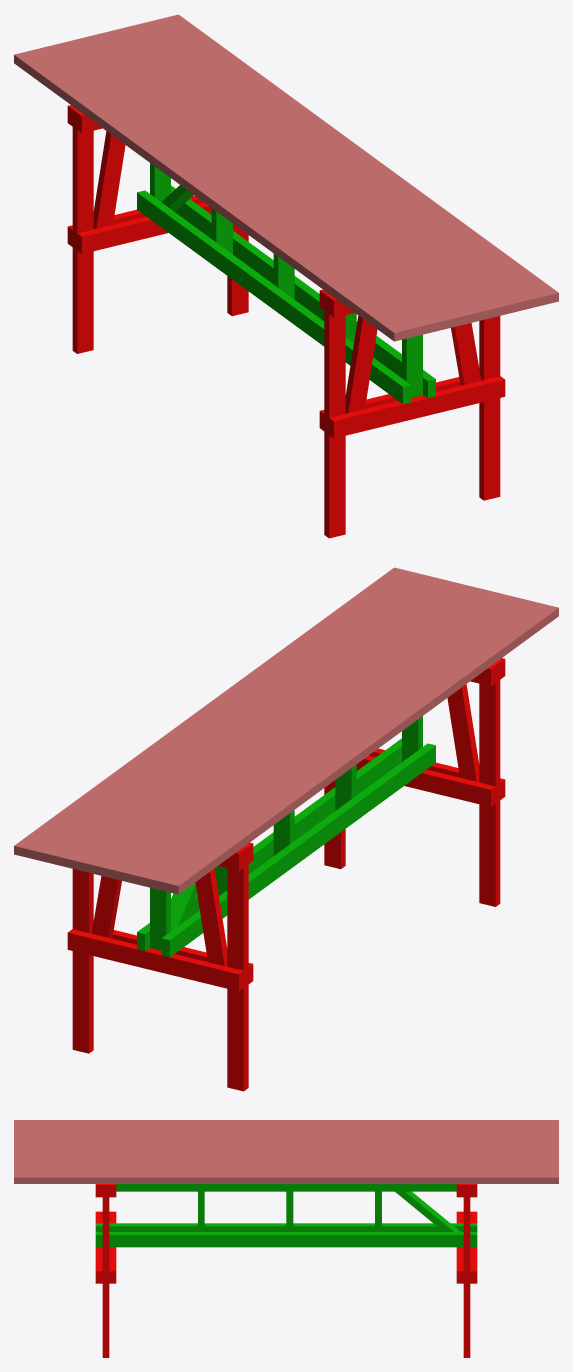
Rendered from result.glb.
3 views of the same model, one above another, from view 1: azimuth 30°, elevation 25°; view 2: azimuth 150°, elevation 25°; view 3: azimuth 270°, elevation 25° (orthographic). The views are drawn at different scales.
Visible parts, largest first — view 1: 233d804b-aa82-4a1f-8e99-a9988a4591b2__Box, 24511cfd-648b-4c3e-8aa5-e5d2b29c801d__undefined, 6e9ef1fb-625e-4efc-afd5-448df16b0850__undefined, bc843ea5-6495-4c71-8c20-5ed04283959f__undefined, 807ba24d-9426-4d6b-a464-b5f705f737ef__undefined, 50c95bae-0d01-47d9-9fb4-fe9f0afbe3b0__undefined, f9274827-497b-4d60-993c-1ef37ac4b0b9__undefined, 03603b9b-70e8-46f3-a580-416a5b94e546__undefined, 4522562a-8859-4b54-a9c5-7852a07b9f0f__undefined, 036c2e89-67e8-4305-be2b-9127bf5e6c2d__undefined, 4cd84dcf-40bf-48df-a6d8-144595c04cf7__strutH, d7f2a14b-35ad-4d5c-9a31-63926bd5b5d8__undefined (+13 smaller); view 2: 233d804b-aa82-4a1f-8e99-a9988a4591b2__Box, 24511cfd-648b-4c3e-8aa5-e5d2b29c801d__undefined, 6e9ef1fb-625e-4efc-afd5-448df16b0850__undefined, bc843ea5-6495-4c71-8c20-5ed04283959f__undefined, 807ba24d-9426-4d6b-a464-b5f705f737ef__undefined, 50c95bae-0d01-47d9-9fb4-fe9f0afbe3b0__undefined, f9274827-497b-4d60-993c-1ef37ac4b0b9__undefined, 03603b9b-70e8-46f3-a580-416a5b94e546__undefined, 4522562a-8859-4b54-a9c5-7852a07b9f0f__undefined, 036c2e89-67e8-4305-be2b-9127bf5e6c2d__undefined, 4cd84dcf-40bf-48df-a6d8-144595c04cf7__strutH, 57222caa-47e7-40bf-abc6-3e7bcd684a53__sideV (+15 smaller); view 3: 4522562a-8859-4b54-a9c5-7852a07b9f0f__undefined, bc77edcd-f92f-42e6-8acf-f853b41183fc__strutH, f9274827-497b-4d60-993c-1ef37ac4b0b9__undefined, 807ba24d-9426-4d6b-a464-b5f705f737ef__undefined, 036c2e89-67e8-4305-be2b-9127bf5e6c2d__undefined, 233d804b-aa82-4a1f-8e99-a9988a4591b2__Box, 24511cfd-648b-4c3e-8aa5-e5d2b29c801d__undefined, 6e9ef1fb-625e-4efc-afd5-448df16b0850__undefined, 03603b9b-70e8-46f3-a580-416a5b94e546__undefined, bc843ea5-6495-4c71-8c20-5ed04283959f__undefined, 50c95bae-0d01-47d9-9fb4-fe9f0afbe3b0__undefined, 4cd84dcf-40bf-48df-a6d8-144595c04cf7__strutH (+9 smaller).
Boxes of the visible parts, x1,y1,x2,y2 form: 233d804b-aa82-4a1f-8e99-a9988a4591b2__Box: (14,50,410,341); 24511cfd-648b-4c3e-8aa5-e5d2b29c801d__undefined: (31,46,427,337); 6e9ef1fb-625e-4efc-afd5-448df16b0850__undefined: (64,38,460,329); bc843ea5-6495-4c71-8c20-5ed04283959f__undefined: (96,30,492,321); 807ba24d-9426-4d6b-a464-b5f705f737ef__undefined: (113,26,509,317); 50c95bae-0d01-47d9-9fb4-fe9f0afbe3b0__undefined: (146,18,542,309); f9274827-497b-4d60-993c-1ef37ac4b0b9__undefined: (47,42,443,333); 03603b9b-70e8-46f3-a580-416a5b94e546__undefined: (80,34,476,325); 4522562a-8859-4b54-a9c5-7852a07b9f0f__undefined: (162,14,558,305); 036c2e89-67e8-4305-be2b-9127bf5e6c2d__undefined: (129,22,525,313); 4cd84dcf-40bf-48df-a6d8-144595c04cf7__strutH: (137,190,411,404); d7f2a14b-35ad-4d5c-9a31-63926bd5b5d8__undefined: (72,108,93,353); 233d804b-aa82-4a1f-8e99-a9988a4591b2__Box: (162,603,558,894); 24511cfd-648b-4c3e-8aa5-e5d2b29c801d__undefined: (145,599,541,890); 6e9ef1fb-625e-4efc-afd5-448df16b0850__undefined: (112,591,508,882); bc843ea5-6495-4c71-8c20-5ed04283959f__undefined: (80,583,476,874); 807ba24d-9426-4d6b-a464-b5f705f737ef__undefined: (63,579,459,870); 50c95bae-0d01-47d9-9fb4-fe9f0afbe3b0__undefined: (30,571,426,862); f9274827-497b-4d60-993c-1ef37ac4b0b9__undefined: (129,595,525,886); 03603b9b-70e8-46f3-a580-416a5b94e546__undefined: (96,587,492,878); 4522562a-8859-4b54-a9c5-7852a07b9f0f__undefined: (14,567,410,858); 036c2e89-67e8-4305-be2b-9127bf5e6c2d__undefined: (47,575,443,866); 4cd84dcf-40bf-48df-a6d8-144595c04cf7__strutH: (161,743,435,957); 57222caa-47e7-40bf-abc6-3e7bcd684a53__sideV: (479,661,500,906); 4522562a-8859-4b54-a9c5-7852a07b9f0f__undefined: (14,1172,558,1183); bc77edcd-f92f-42e6-8acf-f853b41183fc__strutH: (95,1232,477,1247); f9274827-497b-4d60-993c-1ef37ac4b0b9__undefined: (14,1131,558,1137); 807ba24d-9426-4d6b-a464-b5f705f737ef__undefined: (14,1154,558,1160); 036c2e89-67e8-4305-be2b-9127bf5e6c2d__undefined: (14,1160,558,1166); 233d804b-aa82-4a1f-8e99-a9988a4591b2__Box: (14,1120,558,1125); 24511cfd-648b-4c3e-8aa5-e5d2b29c801d__undefined: (14,1126,558,1131); 6e9ef1fb-625e-4efc-afd5-448df16b0850__undefined: (14,1137,558,1142); 03603b9b-70e8-46f3-a580-416a5b94e546__undefined: (14,1143,558,1148); bc843ea5-6495-4c71-8c20-5ed04283959f__undefined: (14,1149,558,1154); 50c95bae-0d01-47d9-9fb4-fe9f0afbe3b0__undefined: (14,1166,558,1171); 4cd84dcf-40bf-48df-a6d8-144595c04cf7__strutH: (95,1223,477,1231).
Size of the model in its own units: 520 by 725 by 2000.
